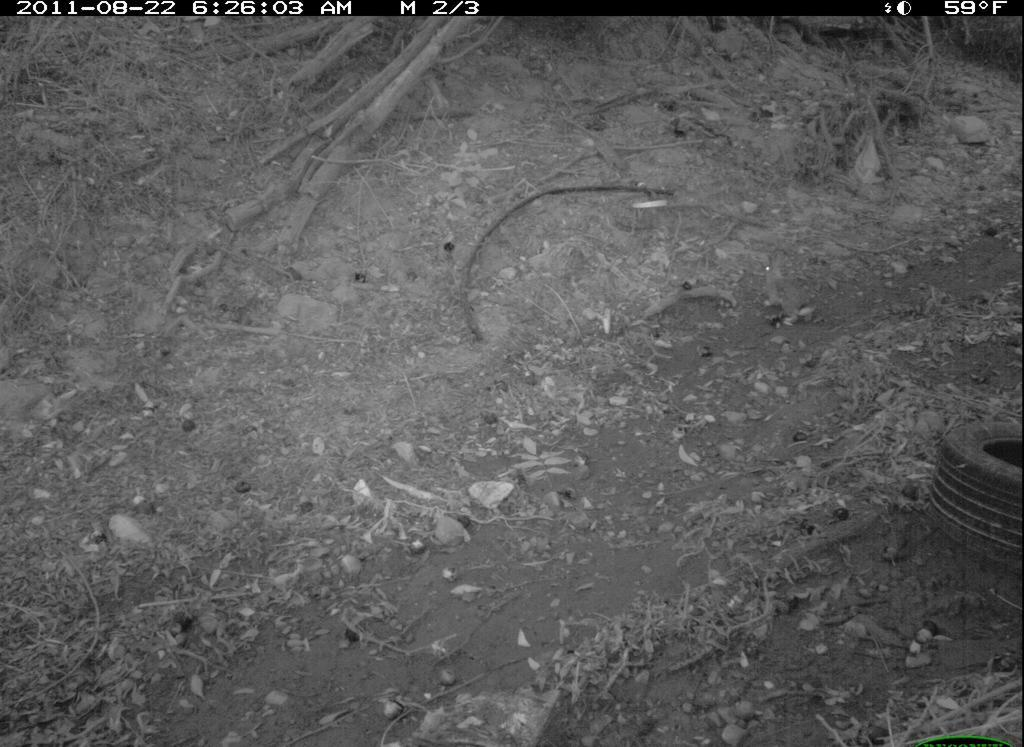rabbit: (748, 245, 823, 348)
